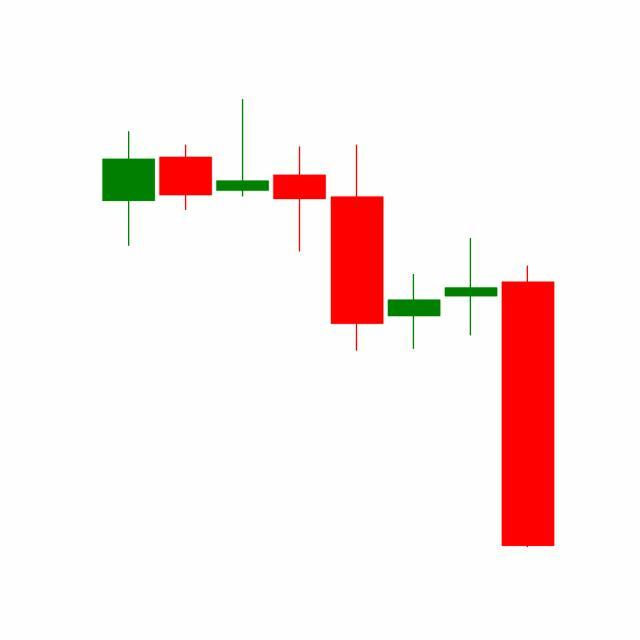Hikkake Pattern: (270, 140, 555, 549)
